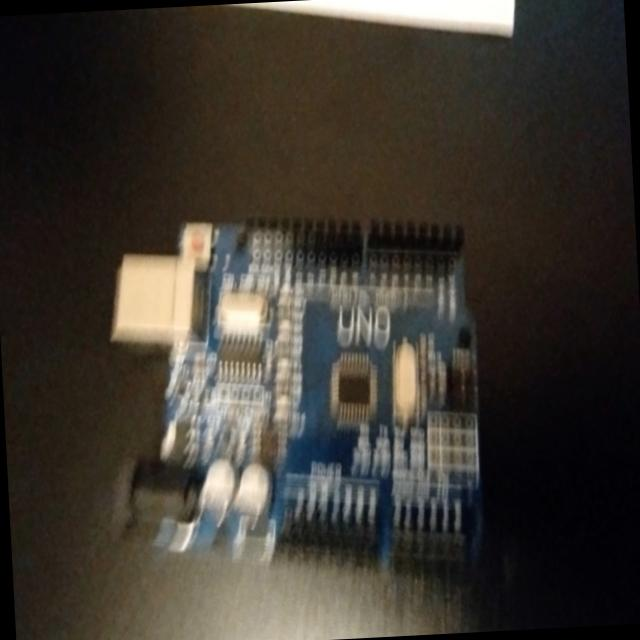arduino: (106, 186, 502, 608)
